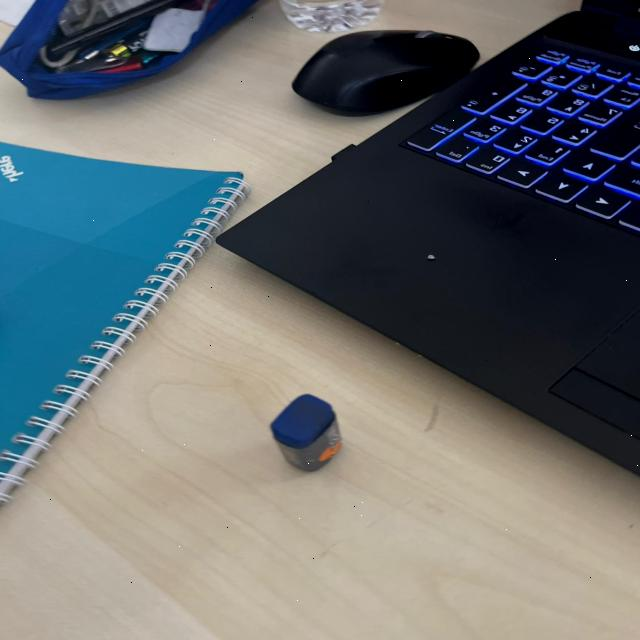eraser: (270, 387, 354, 476)
